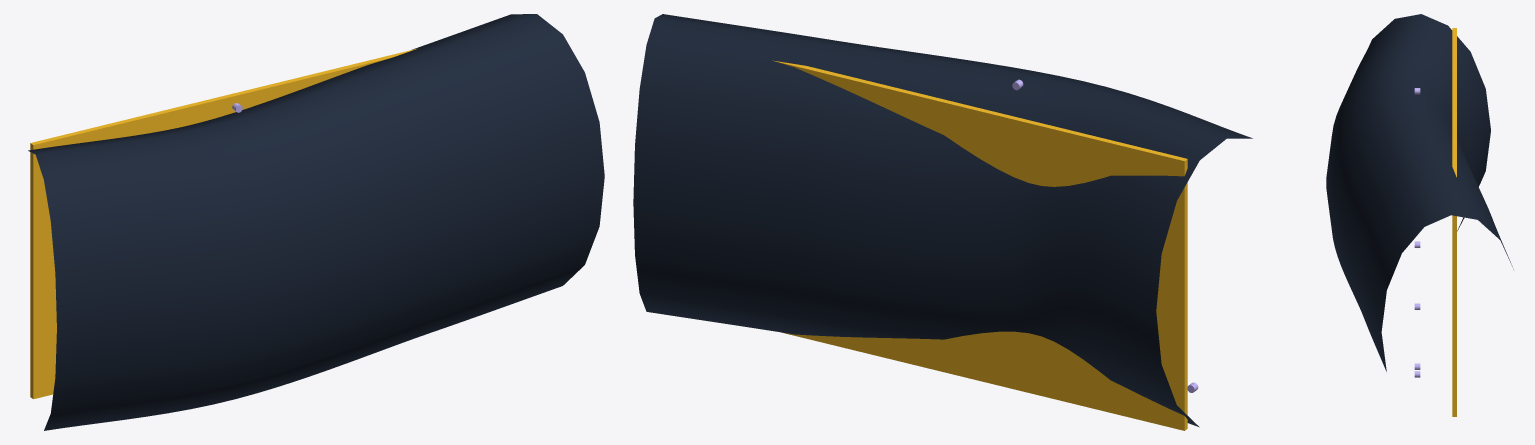
The model's file is engine_cover_f1_pneumatic_carbon_plenum.glb.
3 renders of one model, left to right at view 1: azimuth 30°, elevation 25°; view 2: azimuth 150°, elevation 25°; view 3: azimuth 270°, elevation 25°, orthographic. The views are drawn at different scales.
Visible parts, largest first — view 1: Model12_F1_Pneumatic_Carbon_Plenum_Cover; view 2: Model12_F1_Pneumatic_Carbon_Plenum_Cover; view 3: Model12_F1_Pneumatic_Carbon_Plenum_Cover.
Part boxes in pixels (box(x1,y1,x2,y2)): Model12_F1_Pneumatic_Carbon_Plenum_Cover: box(28, 14, 604, 430); Model12_F1_Pneumatic_Carbon_Plenum_Cover: box(633, 14, 1252, 430); Model12_F1_Pneumatic_Carbon_Plenum_Cover: box(1326, 14, 1513, 416).
Bounding box in the file's own units: 0.6535 × 0.3083 × 0.2449.
